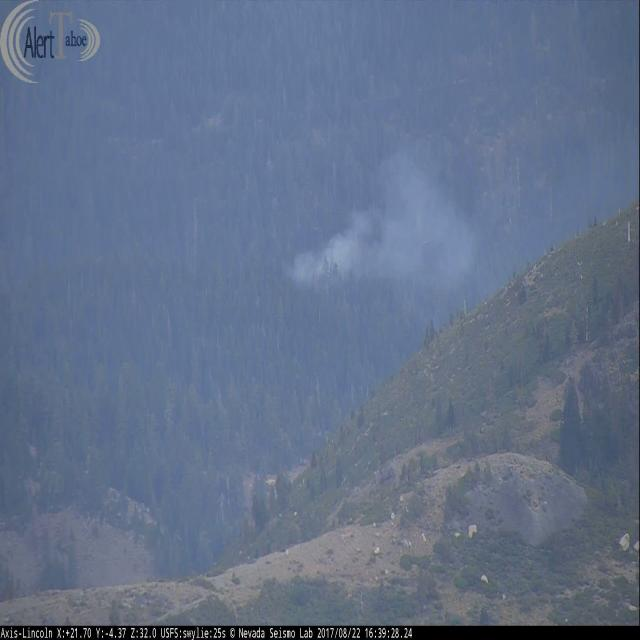smoke: (282, 161, 474, 296)
